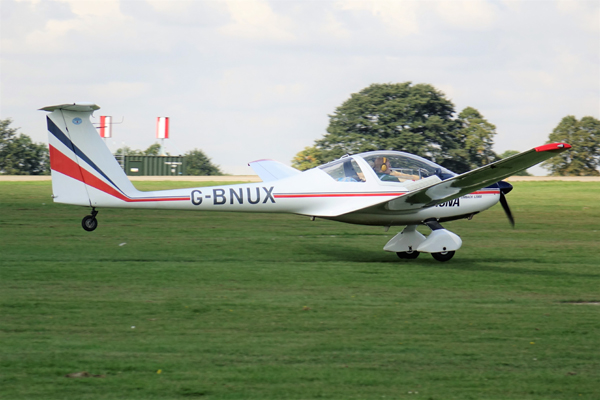Aeronef_de_loisir: (27, 93, 579, 276)
